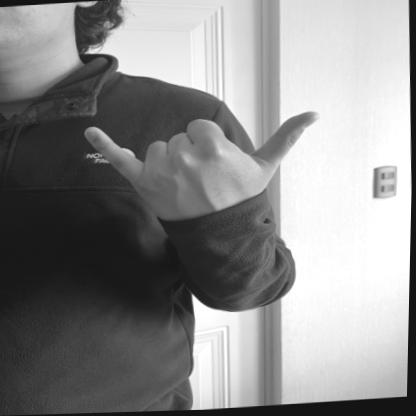Y: (83, 106, 326, 228)
